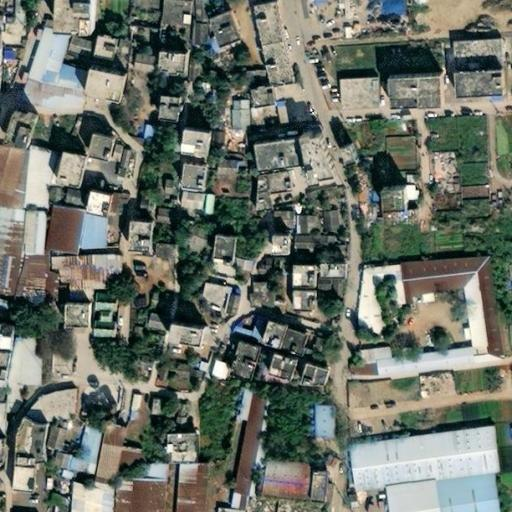building: (396, 254, 491, 359), (342, 428, 494, 488), (9, 29, 80, 110), (218, 393, 260, 511), (378, 471, 494, 512), (41, 256, 113, 303), (350, 266, 397, 335), (253, 5, 291, 86), (368, 347, 466, 376), (36, 206, 76, 256), (256, 461, 305, 501), (14, 152, 50, 203), (385, 76, 437, 110), (247, 349, 296, 385), (4, 254, 36, 307), (12, 423, 47, 471), (88, 425, 117, 480), (17, 391, 68, 422), (166, 464, 198, 512), (108, 480, 155, 512), (300, 129, 330, 179), (61, 426, 92, 474), (446, 40, 495, 69), (8, 338, 35, 386), (78, 75, 115, 109), (334, 78, 373, 110), (449, 72, 498, 97), (224, 344, 255, 382), (62, 484, 104, 512), (205, 14, 236, 50), (81, 41, 119, 70), (85, 295, 110, 338), (54, 0, 89, 30), (11, 214, 36, 256), (70, 215, 98, 251), (11, 121, 42, 152), (203, 159, 229, 195), (57, 156, 83, 192), (336, 349, 370, 376), (253, 145, 282, 174), (163, 436, 190, 465), (279, 142, 306, 171), (159, 322, 193, 344), (87, 138, 115, 164), (83, 192, 113, 216), (43, 187, 80, 206), (179, 128, 206, 154), (181, 225, 207, 252), (172, 189, 194, 219), (9, 468, 33, 495), (221, 100, 241, 132), (115, 53, 144, 75), (308, 407, 327, 440), (263, 324, 287, 350), (280, 330, 304, 356), (193, 283, 220, 306), (151, 236, 178, 259), (182, 0, 196, 44), (119, 392, 140, 421), (121, 219, 142, 248), (109, 445, 134, 469), (181, 168, 206, 192), (372, 188, 398, 211), (262, 173, 287, 196), (458, 179, 489, 197), (59, 38, 83, 61), (157, 0, 182, 22), (248, 106, 271, 129), (282, 289, 304, 313), (302, 366, 327, 387), (284, 267, 307, 289), (149, 95, 169, 120), (206, 236, 226, 260), (106, 150, 122, 180), (232, 250, 256, 270), (286, 215, 311, 234), (159, 56, 184, 75), (252, 179, 267, 210), (64, 308, 86, 329), (215, 288, 232, 315), (243, 316, 260, 342), (0, 26, 17, 52), (287, 236, 317, 250), (151, 202, 172, 222), (264, 211, 287, 229), (248, 91, 271, 109), (135, 465, 159, 482), (230, 392, 244, 421), (308, 477, 322, 505), (146, 391, 163, 413), (310, 211, 328, 231), (124, 0, 149, 14), (334, 143, 351, 163), (240, 294, 264, 308), (203, 363, 221, 381), (263, 236, 281, 254), (191, 191, 205, 214), (286, 180, 312, 192), (223, 325, 245, 339), (265, 193, 287, 207), (300, 336, 317, 354), (320, 268, 343, 280), (42, 357, 59, 373), (43, 451, 58, 469), (140, 315, 159, 329), (187, 361, 200, 381), (245, 282, 264, 294), (366, 347, 384, 359), (6, 0, 16, 21), (299, 380, 315, 391), (412, 292, 426, 303), (292, 125, 311, 133), (163, 367, 178, 376), (389, 347, 404, 356), (454, 327, 463, 340), (104, 0, 132, 4), (330, 2, 336, 18), (264, 302, 274, 311), (131, 353, 138, 363), (407, 299, 414, 309), (417, 388, 426, 395), (305, 0, 318, 3), (411, 391, 418, 396)
